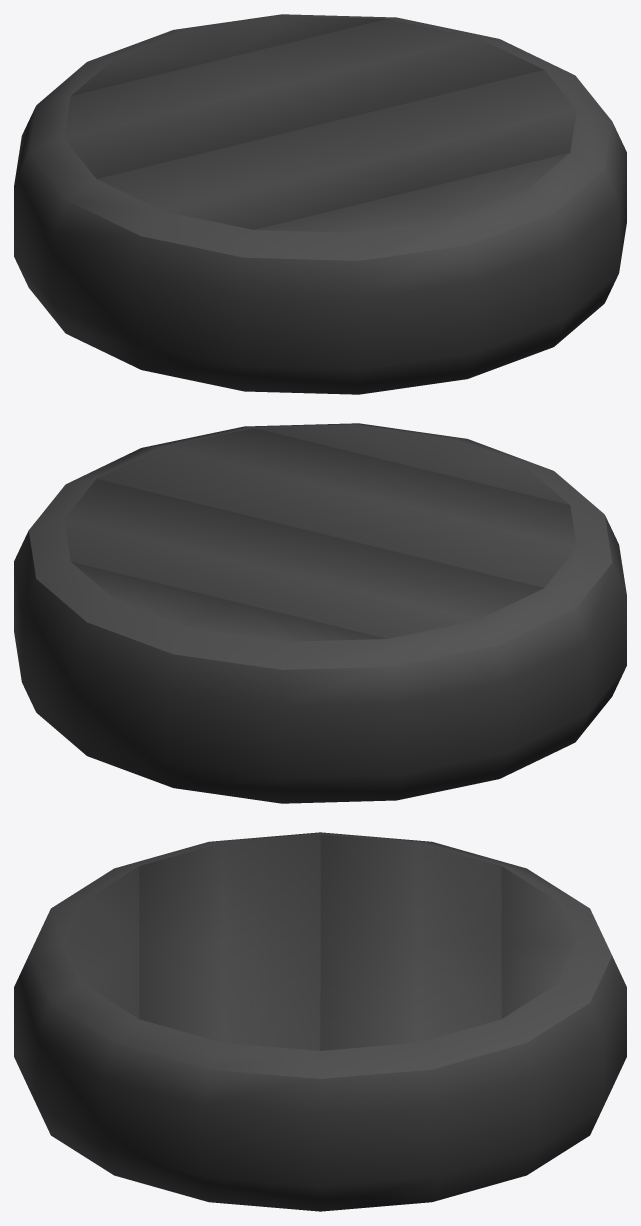
File: kay-food_ingredient_burger_trash.glb
3 views of the same model, one above another, from view 1: azimuth 30°, elevation 25°; view 2: azimuth 150°, elevation 25°; view 3: azimuth 270°, elevation 25° (orthographic).
Visible parts, largest first — view 1: food_ingredient_burger_trash; view 2: food_ingredient_burger_trash; view 3: food_ingredient_burger_trash.
Boxes of the visible parts, box(x1,y1,x2,y2) form: food_ingredient_burger_trash: box(14, 14, 626, 394); food_ingredient_burger_trash: box(14, 423, 626, 803); food_ingredient_burger_trash: box(14, 832, 626, 1211).
Size of the model in its own units: 0.22 by 0.0629 by 0.22.
1 material, 1 textured.
